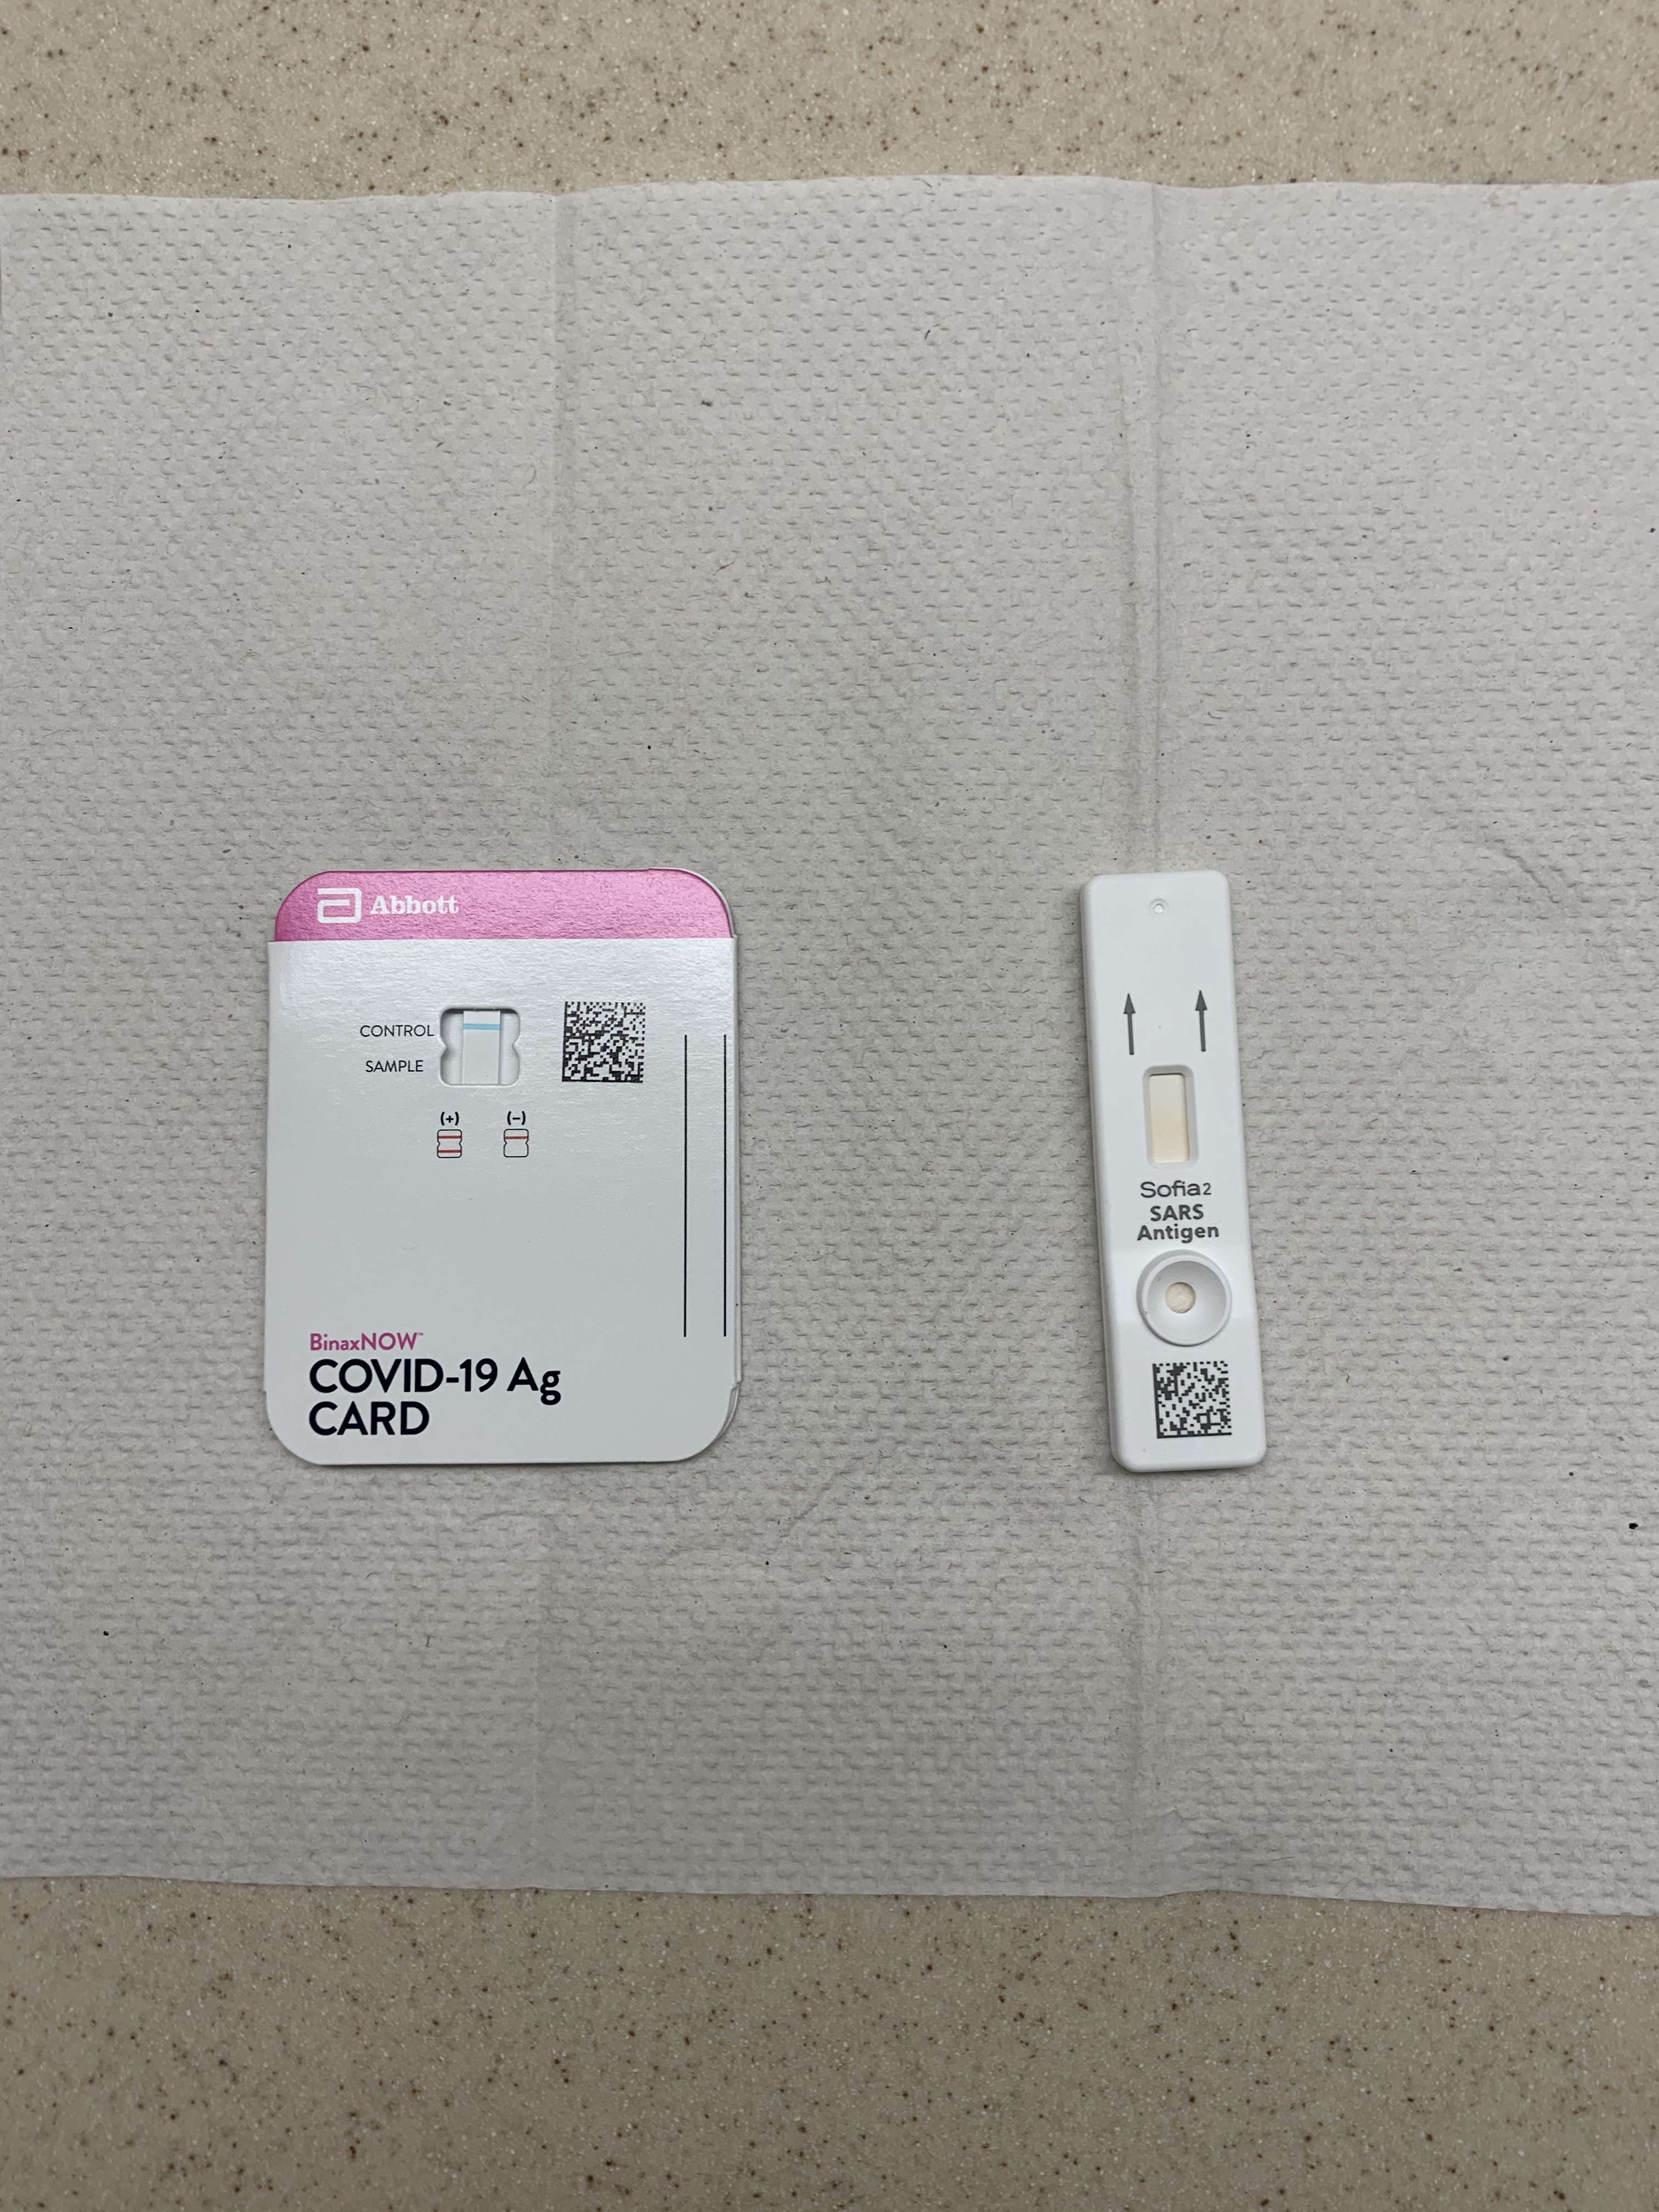binax: (263, 860, 742, 1475)
quidel: (1068, 855, 1277, 1479)
